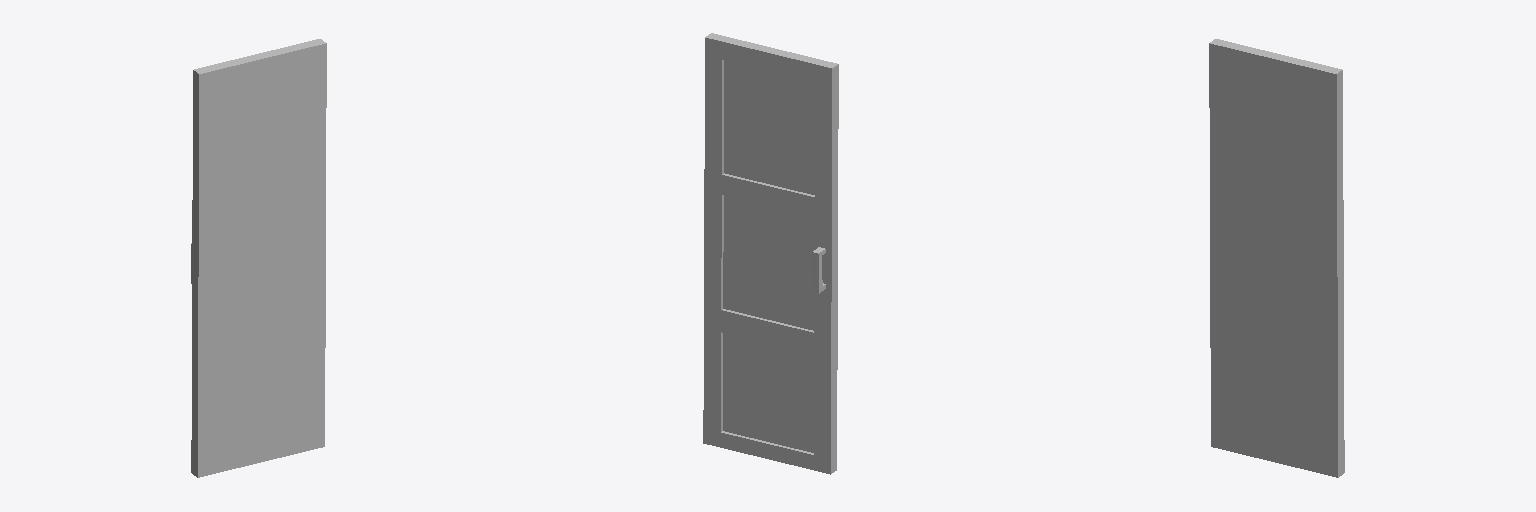
File: PantryDoor.obj
The picture shows the model from 3 angles: view 1: azimuth 30°, elevation 25°; view 2: azimuth 150°, elevation 25°; view 3: azimuth 330°, elevation 25°; orthographic projection.
Parts seen in each view (by area): view 1: polySurface213 pantry_closet; view 2: polySurface213 pantry_closet; view 3: polySurface213 pantry_closet.
Boxes of the visible parts, x1,y1,x2,y2 form: polySurface213 pantry_closet: [191, 39, 326, 477]; polySurface213 pantry_closet: [703, 33, 838, 474]; polySurface213 pantry_closet: [1209, 39, 1344, 477].
Size of the model in its own units: 17.18 by 52.17 by 3.3.